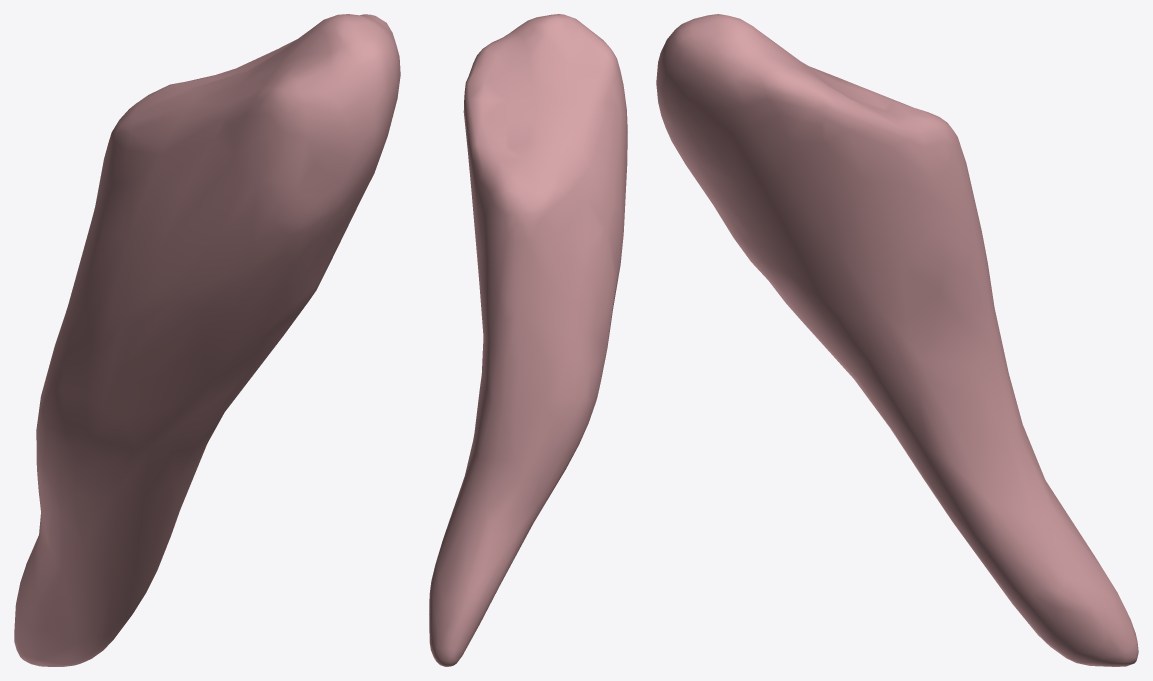
The model's file is fma55687_mm817.glb.
The picture shows the model from 3 angles, left to right: view 1: azimuth 30°, elevation 25°; view 2: azimuth 150°, elevation 25°; view 3: azimuth 270°, elevation 25°; orthographic projection. The views are drawn at different scales.
Parts seen in each view (by area): view 1: FMA55687_MM817; view 2: FMA55687_MM817; view 3: FMA55687_MM817.
Part boxes in pixels (x1=…): FMA55687_MM817: x1=14, y1=14, x2=400, y2=666; FMA55687_MM817: x1=429, y1=14, x2=627, y2=666; FMA55687_MM817: x1=656, y1=14, x2=1138, y2=666.
Size of the model in its own units: 0.00798 by 0.0236 by 0.0151.
